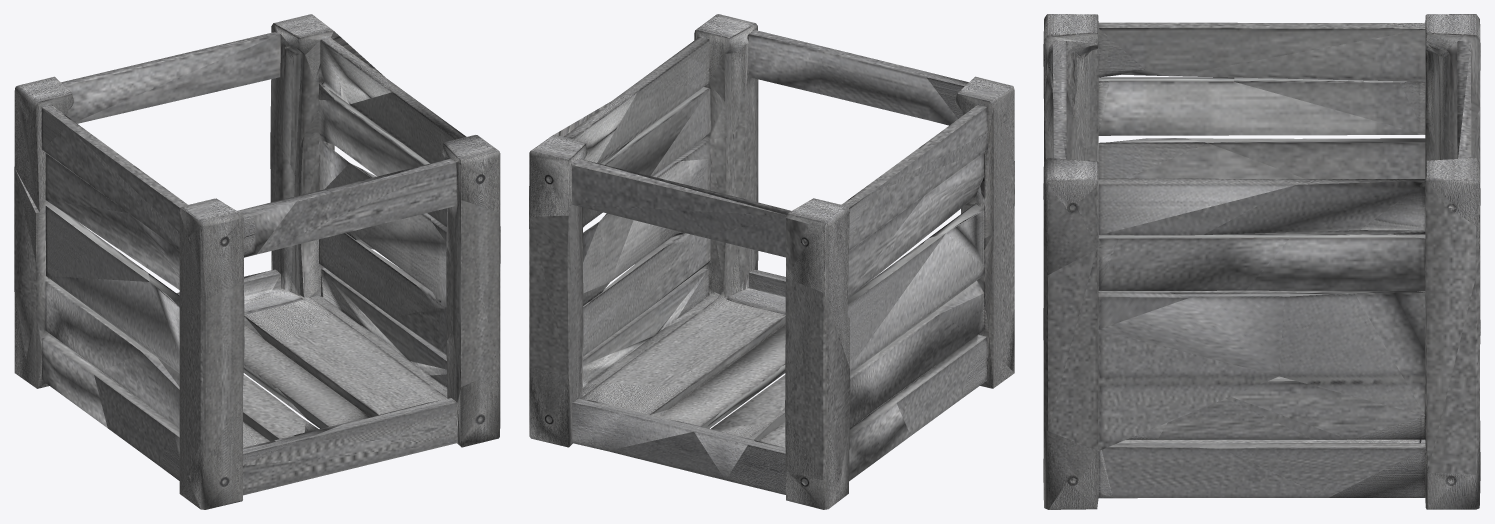
Rendered from Caisse3.fbx.
3 views of the same model, side by side, from view 1: azimuth 30°, elevation 25°; view 2: azimuth 150°, elevation 25°; view 3: azimuth 270°, elevation 25° (orthographic). The views are drawn at different scales.
Parts seen in each view (by area): view 1: output_unwrapped; view 2: output_unwrapped; view 3: output_unwrapped.
Boxes of the visible parts, x1,y1,x2,y2 form: output_unwrapped: (14,14,500,509); output_unwrapped: (529,14,1014,509); output_unwrapped: (1043,14,1480,509).
Size of the model in its own units: 173 by 158 by 190.
1 material, 1 textured.
